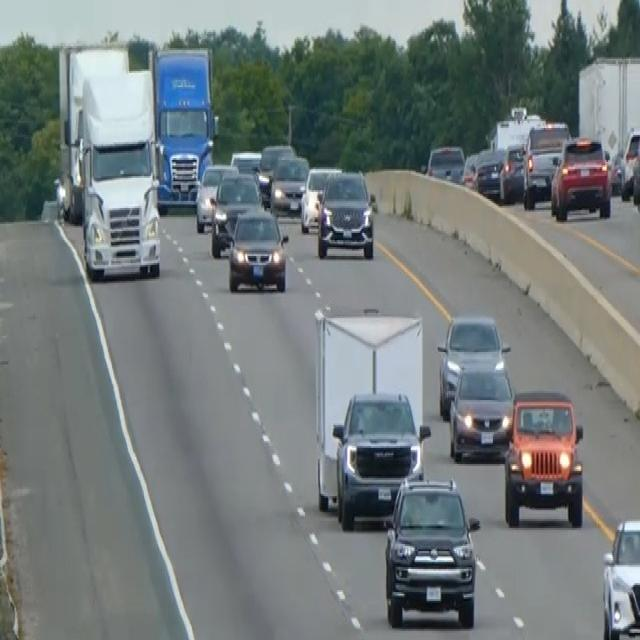car: (330, 388, 428, 528), (502, 388, 584, 528), (436, 311, 509, 418), (447, 359, 515, 462), (226, 204, 289, 294), (316, 167, 375, 260), (549, 134, 612, 220), (209, 169, 263, 256), (601, 516, 639, 638), (521, 119, 570, 208), (194, 160, 238, 231), (475, 140, 525, 202), (299, 163, 341, 233), (269, 153, 309, 213), (256, 142, 295, 203), (425, 142, 465, 183), (619, 124, 639, 201), (229, 148, 261, 176), (460, 150, 481, 190), (631, 130, 639, 210)
jeep: (381, 471, 481, 629)
lorry: (57, 37, 163, 281), (150, 42, 218, 210)
